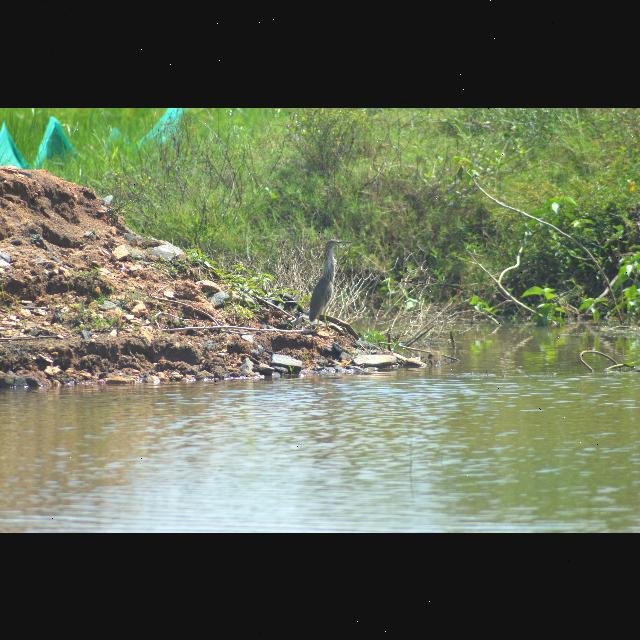heron: (306, 233, 348, 329)
